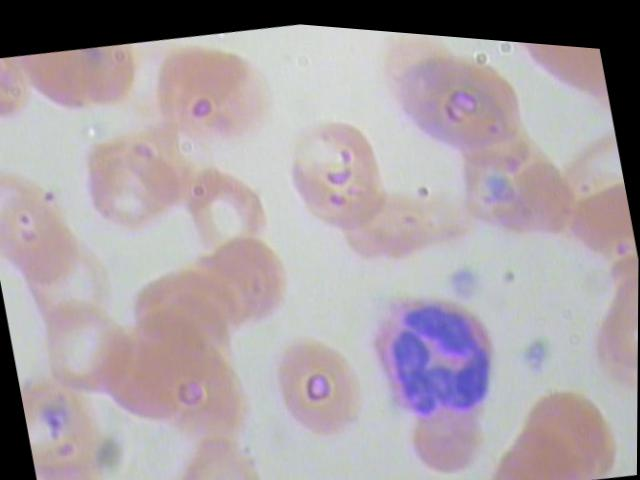Platelets: (512, 319, 558, 374)
Red Blood Cells: (385, 26, 533, 173), (140, 22, 284, 162), (444, 117, 585, 251), (254, 318, 383, 450), (270, 104, 398, 237), (118, 248, 240, 374), (142, 243, 264, 369), (179, 216, 300, 342), (18, 293, 145, 410), (3, 233, 130, 350), (502, 366, 629, 479), (18, 32, 156, 135), (92, 315, 204, 435), (150, 344, 262, 464), (128, 276, 239, 396), (328, 170, 442, 282), (175, 155, 282, 271), (70, 124, 176, 240), (102, 103, 208, 218), (0, 179, 96, 300), (391, 378, 504, 479), (500, 32, 610, 112), (152, 413, 280, 479)
White Blood Cells: (360, 274, 509, 426)
